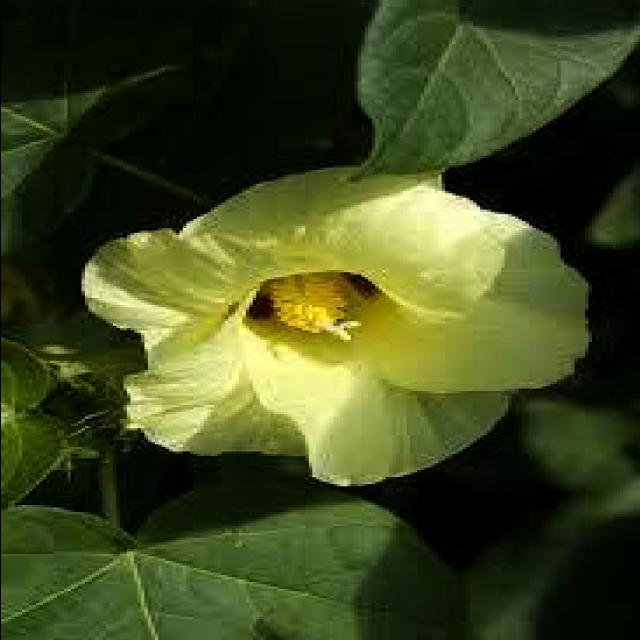Cotton Blossom: (90, 182, 596, 478)
